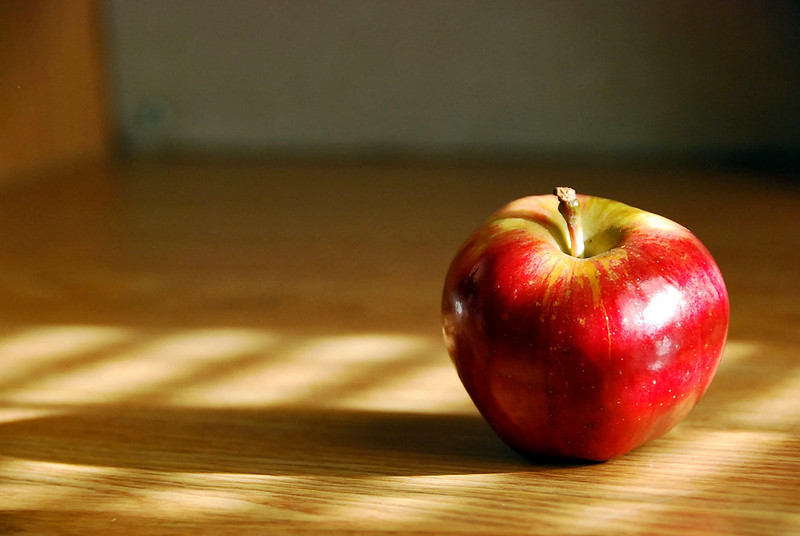apple: (441, 180, 733, 469)
